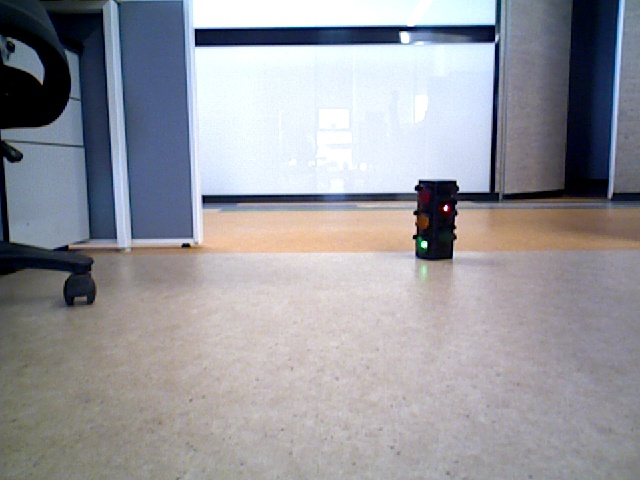green: (416, 182, 450, 253)
